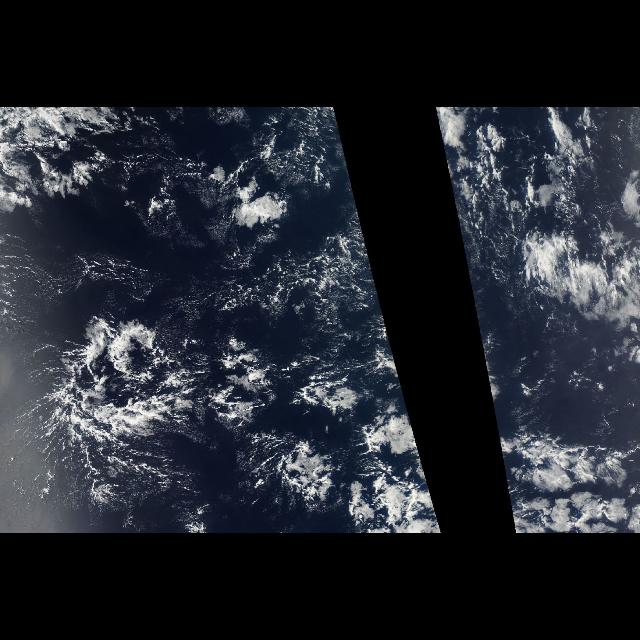Fish: (476, 319, 640, 533), (352, 319, 442, 533)
Sugar: (4, 234, 363, 324)
